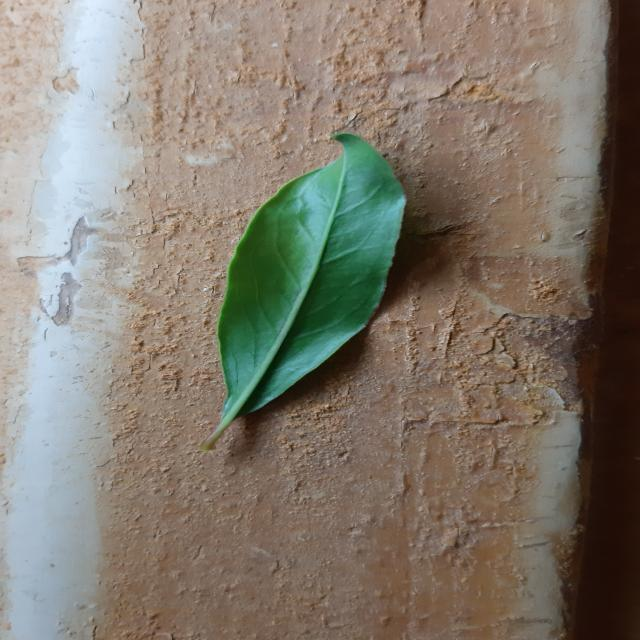pomgranate: (200, 134, 404, 450)
